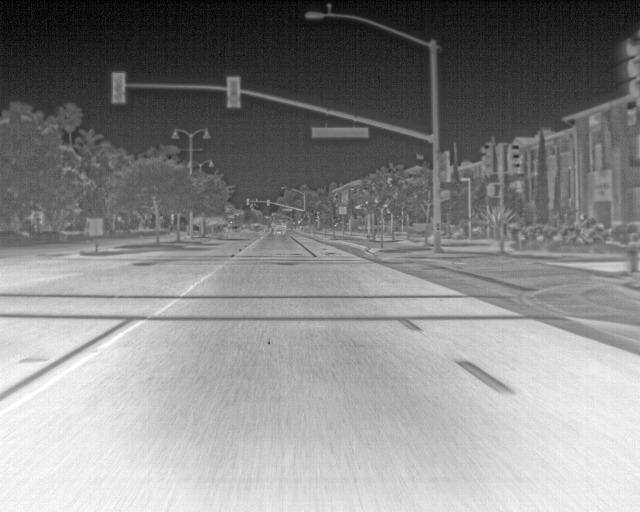car: (272, 225, 286, 234), (254, 225, 265, 232)
light: (625, 34, 639, 100), (481, 143, 493, 175), (509, 144, 521, 173), (113, 74, 124, 102), (438, 152, 448, 182), (228, 80, 239, 107), (486, 183, 495, 197), (440, 190, 450, 200), (246, 199, 249, 206), (267, 200, 270, 206)
sign: (311, 127, 368, 138), (88, 217, 104, 237), (339, 206, 347, 214), (282, 209, 292, 211)
